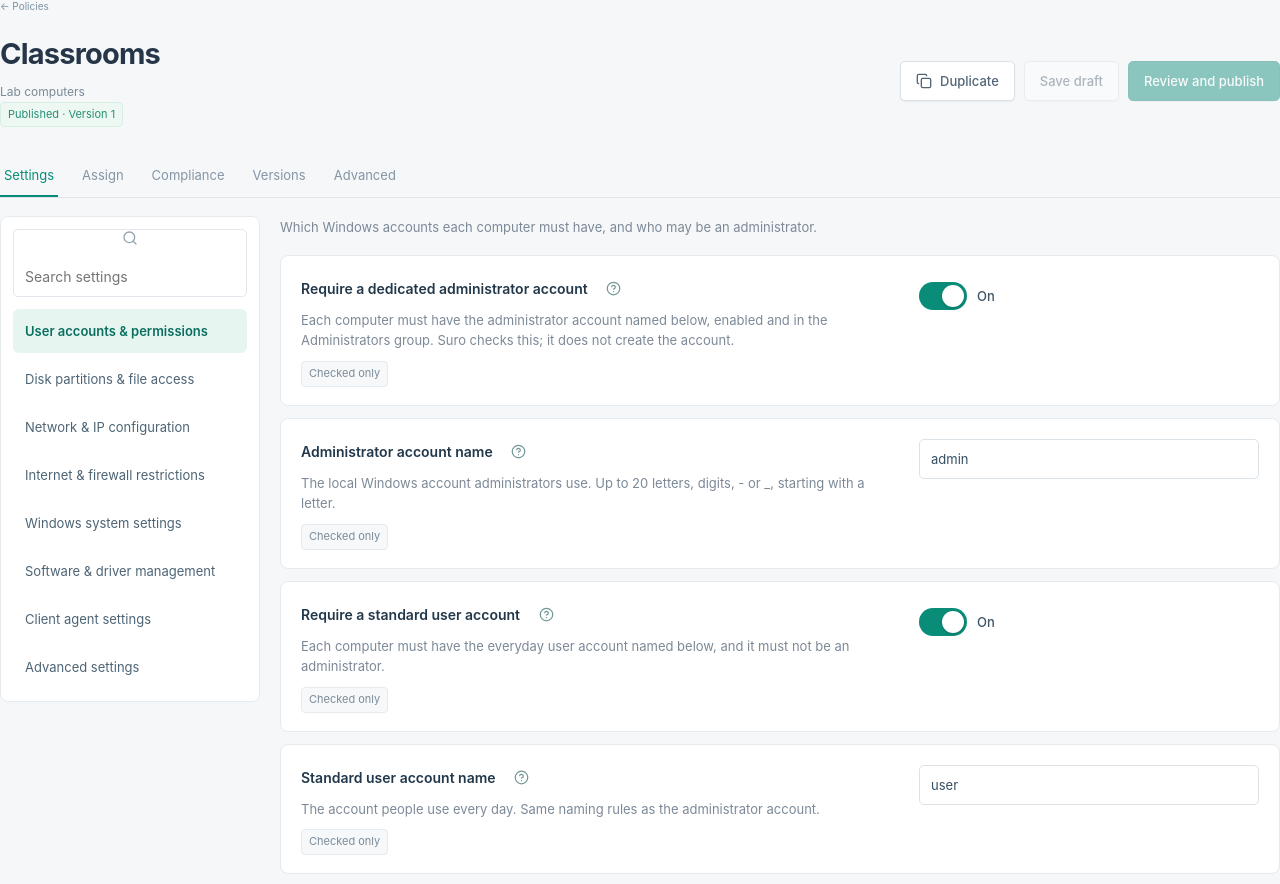
Test case: marks safety rules as always on and honest enforcement on each setting
The width and height of the screenshot is (1280, 884).
Click the button "Disk partitions & file access": (130,380) [13,358,247,402]
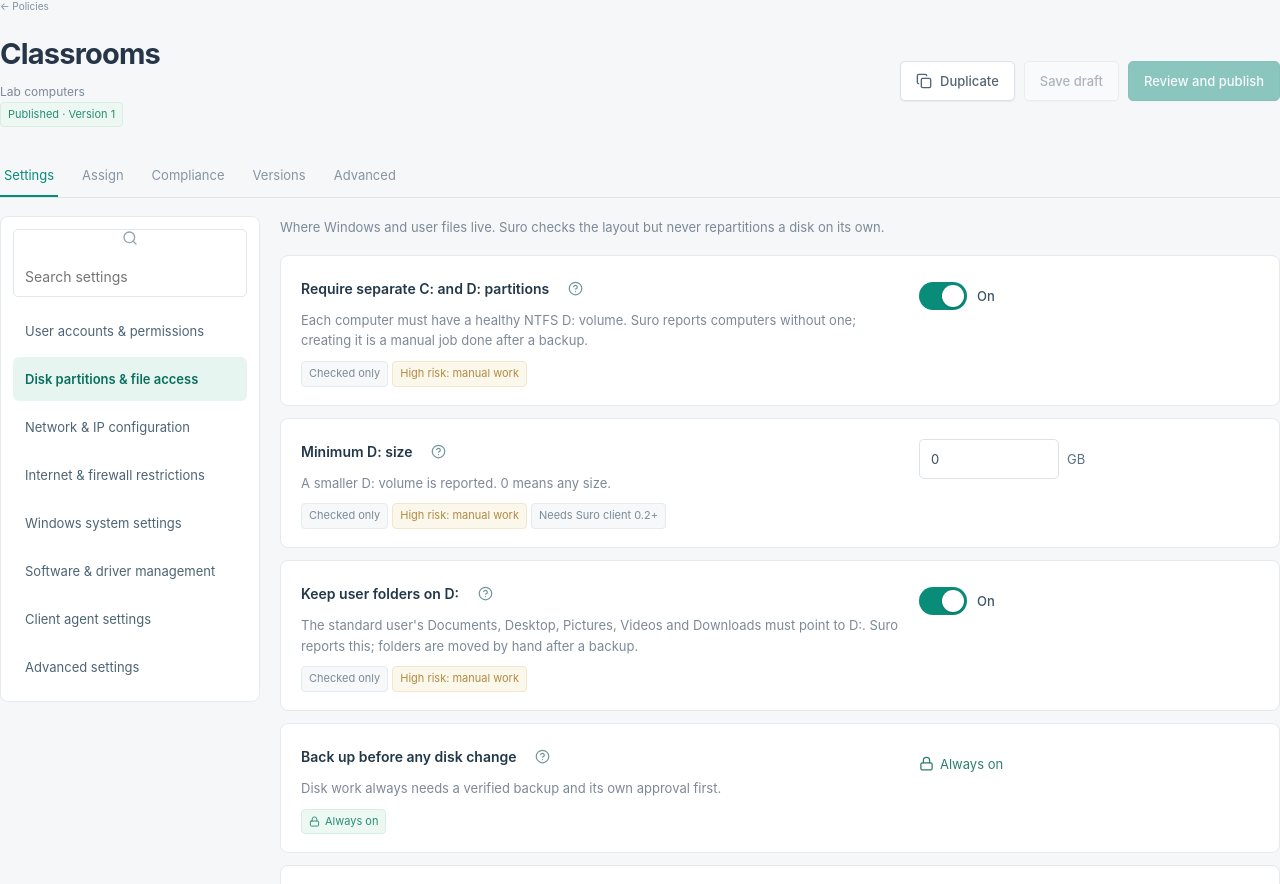
Expected: the text "Checked only" below "Require separate C: and D: partitions" is shown, [309,366,380,380]
In the search field labelled "Search settings": (130,276) [25,256,235,296], type "firewall"
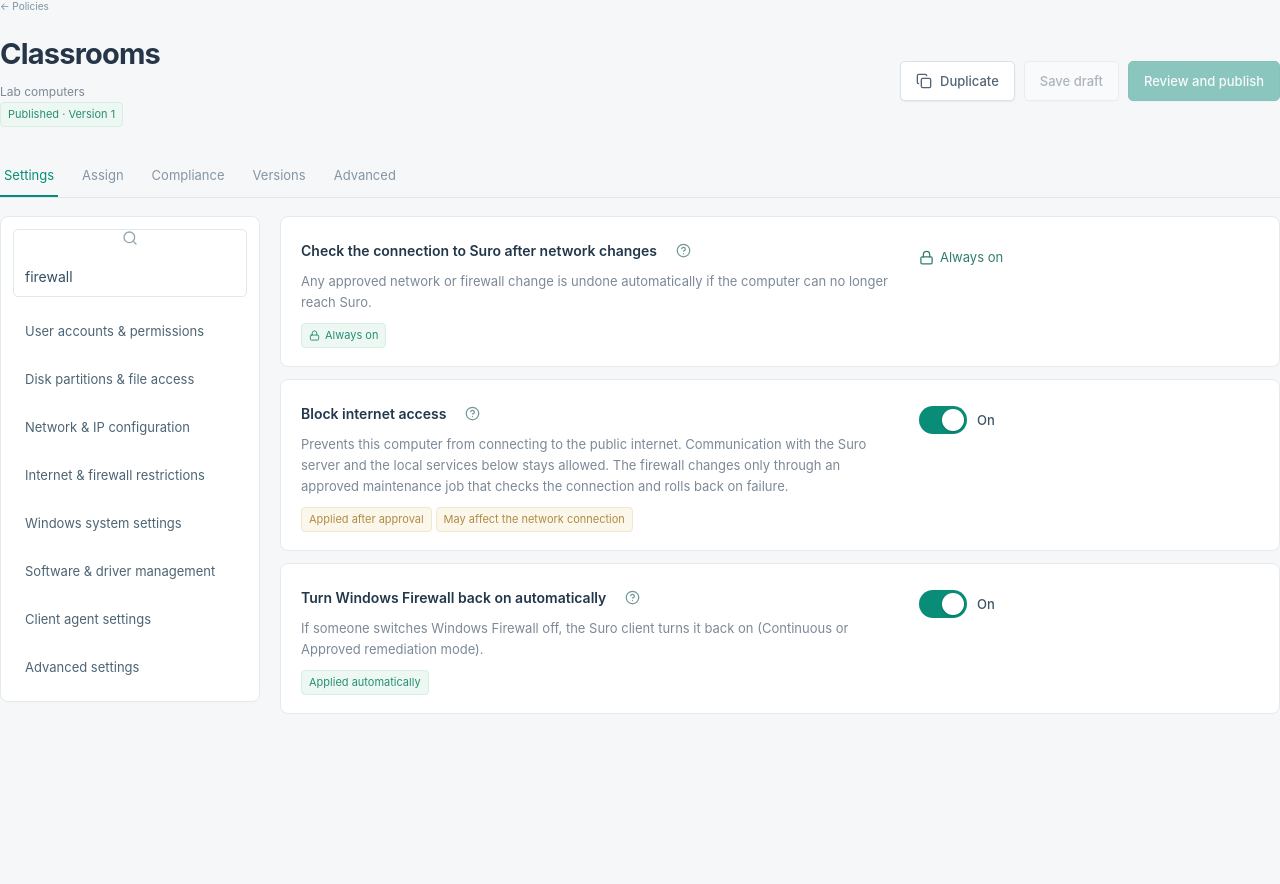
Now the heading "Turn Windows Firewall back on automatically" is shown, box [301,582,647,612]
